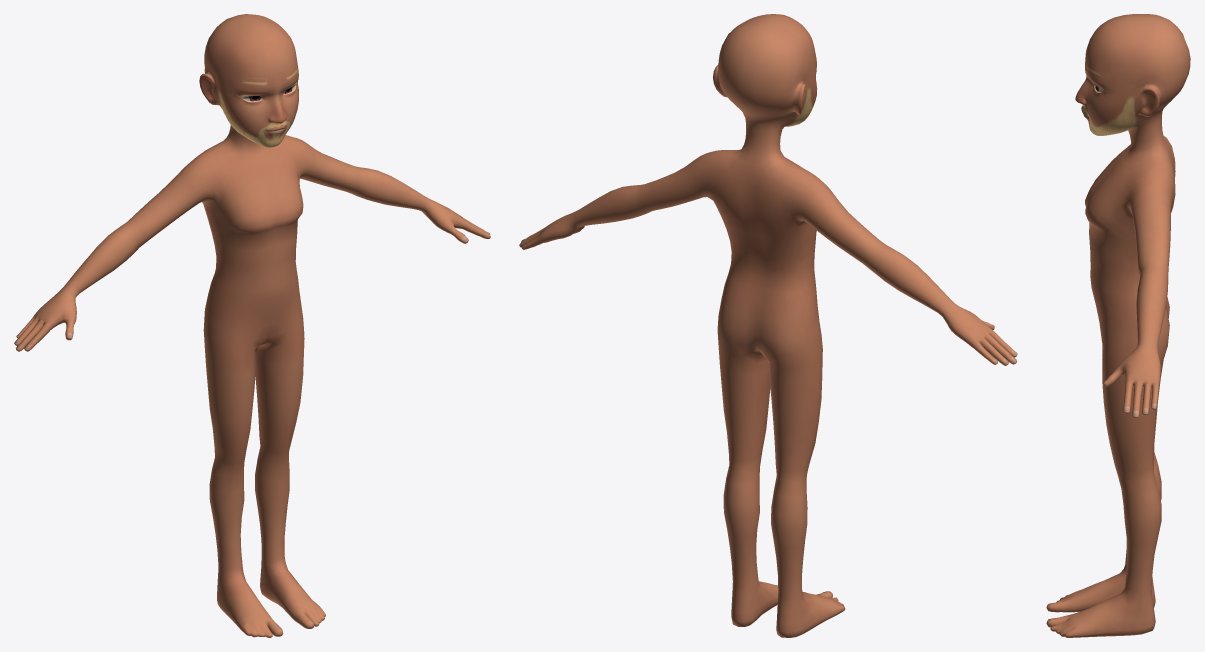
File: frame_0008.glb
The picture shows the model from 3 angles, left to right: view 1: azimuth 30°, elevation 25°; view 2: azimuth 150°, elevation 25°; view 3: azimuth 270°, elevation 25°; orthographic projection. The views are drawn at different scales.
Parts seen in each view (by area): view 1: frame_0008_head_geo; view 2: frame_0008_head_geo; view 3: frame_0008_head_geo.
Boxes of the visible parts, left/top/right/bottom form: frame_0008_head_geo: left=14, top=14, right=490, bottom=637; frame_0008_head_geo: left=519, top=14, right=1017, bottom=637; frame_0008_head_geo: left=1046, top=14, right=1190, bottom=637.
Size of the model in its own units: 1.28 by 1.5 by 0.3253.
3 materials, 3 textured.
